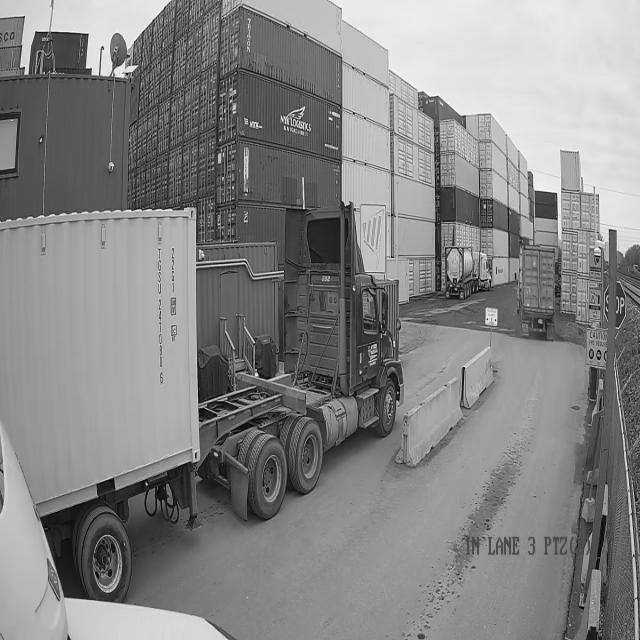container_side_no: (154, 243, 168, 375)
truck_with_container: (0, 202, 402, 569), (516, 245, 555, 337)
